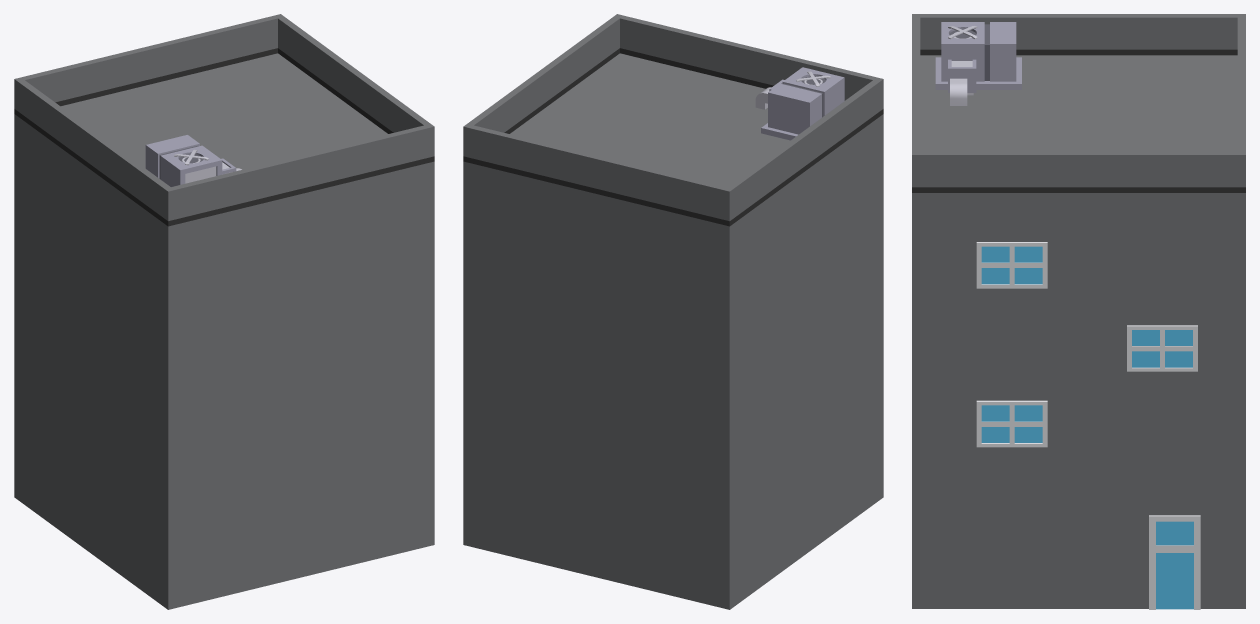
The model's file is building 3.fbx.
3 views of the same model, side by side, from view 1: azimuth 30°, elevation 25°; view 2: azimuth 150°, elevation 25°; view 3: azimuth 270°, elevation 25° (orthographic). The views are drawn at different scales.
Visible parts, largest first — view 1: block_53, block_half_96, block_half_98, block_half_97, block_half_95, detail_airLarge_100; view 2: block_53, block_half_98, block_half_96, block_half_97, block_half_95, detail_airLarge_100; view 3: block_53, block_half_95, block_half_97, door_94, detail_airLarge_100, window_wide_90, window_wide_88, window_wide_89, block_half_98, block_half_96, detail_airSmall_101.
Boxes of the visible parts, left/top/right/bottom form: block_53: left=14, top=53, right=434, bottom=609; block_half_96: left=164, top=124, right=434, bottom=226; block_half_98: left=14, top=14, right=282, bottom=115; block_half_97: left=14, top=77, right=174, bottom=224; block_half_95: left=274, top=14, right=434, bottom=162; detail_airLarge_100: left=145, top=135, right=222, bottom=186; block_53: left=463, top=53, right=883, bottom=609; block_half_98: left=463, top=124, right=732, bottom=225; block_half_96: left=615, top=14, right=883, bottom=113; block_half_97: left=723, top=77, right=883, bottom=226; block_half_95: left=463, top=14, right=623, bottom=162; detail_airLarge_100: left=761, top=67, right=844, bottom=140; block_53: left=912, top=55, right=1245, bottom=608; block_half_95: left=912, top=151, right=1245, bottom=192; block_half_97: left=914, top=14, right=1245, bottom=55; door_94: left=1149, top=515, right=1200, bottom=609; detail_airLarge_100: left=935, top=22, right=1021, bottom=89; window_wide_90: left=976, top=400, right=1047, bottom=447; window_wide_88: left=976, top=242, right=1047, bottom=288; window_wide_89: left=1127, top=325, right=1197, bottom=371; block_half_98: left=1237, top=14, right=1245, bottom=192; block_half_96: left=912, top=14, right=920, bottom=192; detail_airSmall_101: left=948, top=59, right=976, bottom=105.
Bounding box in the file's own units: 40.3 × 60.99 × 40.
